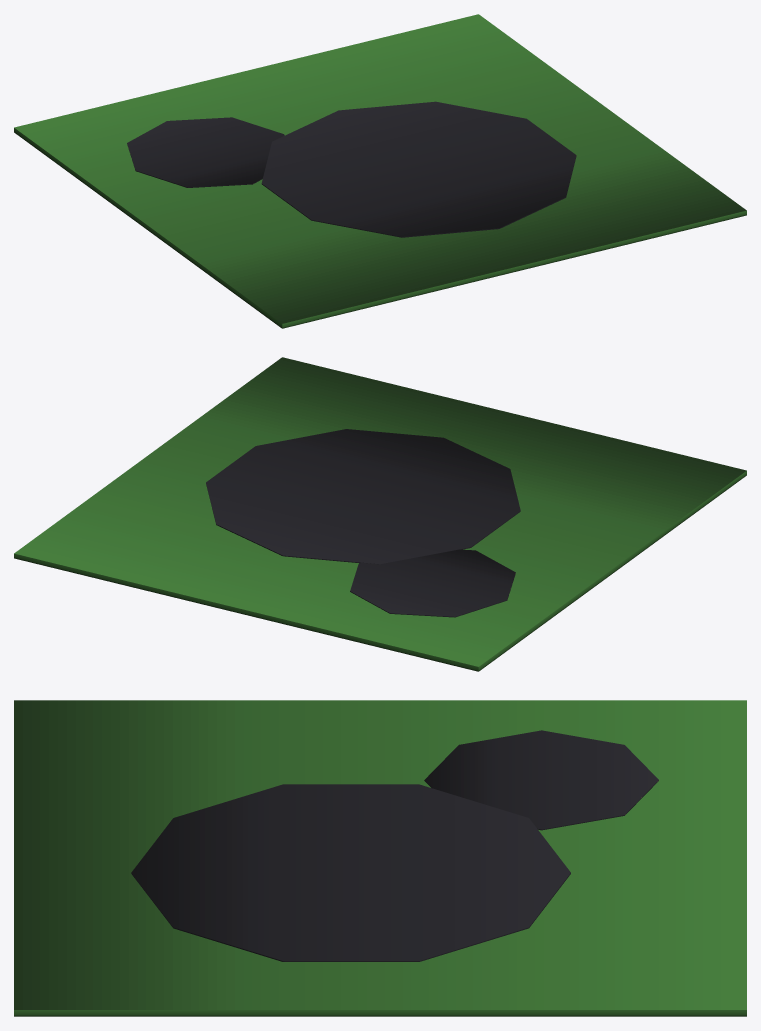
Rendered from ground_mud.gltf.
3 renders of one model, top to bottom at view 1: azimuth 30°, elevation 25°; view 2: azimuth 150°, elevation 25°; view 3: azimuth 270°, elevation 25°, orthographic. The views are drawn at different scales.
Visible parts, largest first — view 1: ground_mud; view 2: ground_mud; view 3: ground_mud.
Boxes of the visible parts, box(x1,y1,x2,y2) form: ground_mud: box(14, 14, 746, 328); ground_mud: box(14, 357, 746, 671); ground_mud: box(14, 700, 746, 1016).
Bounding box in the file's own units: 1 × 0.0116 × 1.
Materials: 1 (1 with a texture image).
